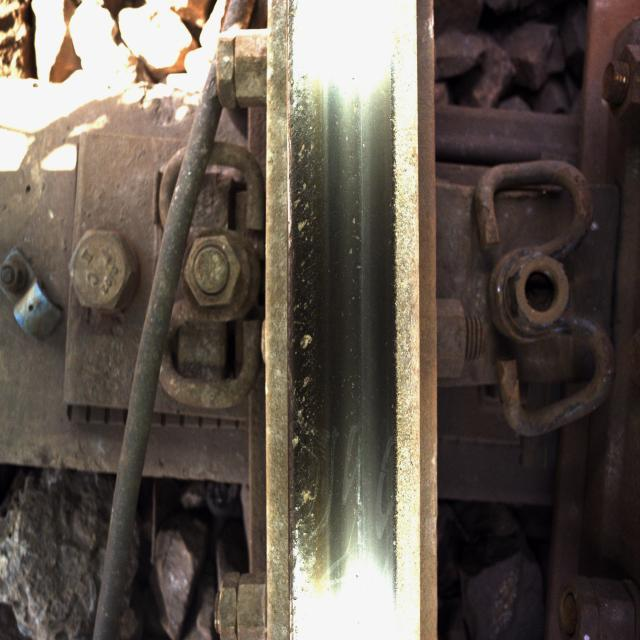scar: (288, 19, 362, 604)
